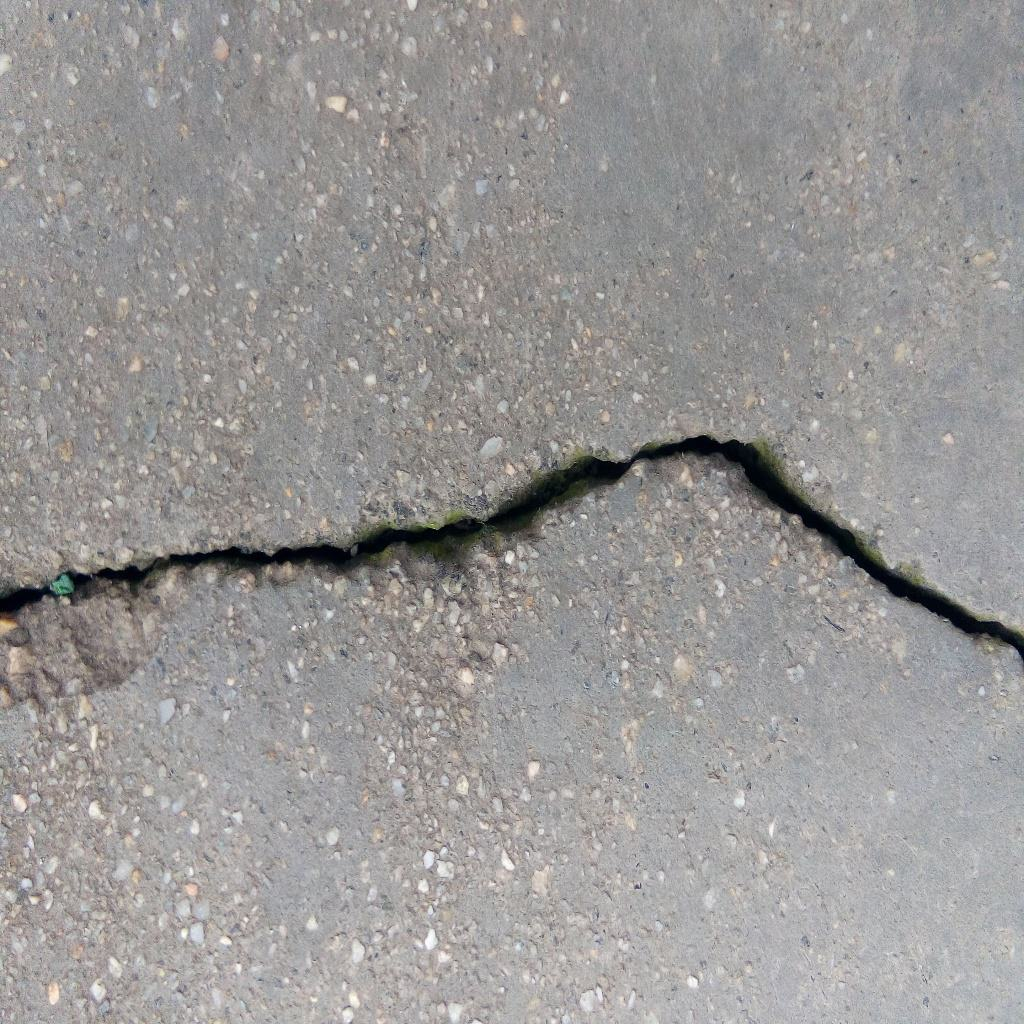Crack: (1, 432, 1024, 661)
